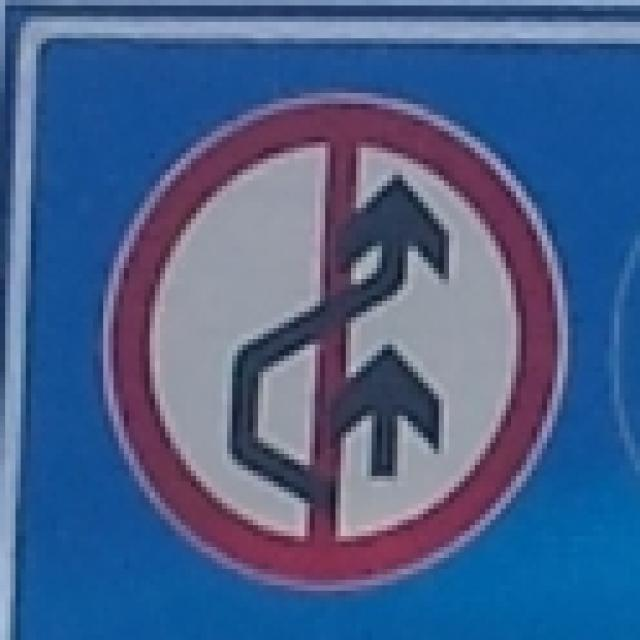Not that Direction: (117, 94, 561, 583)
